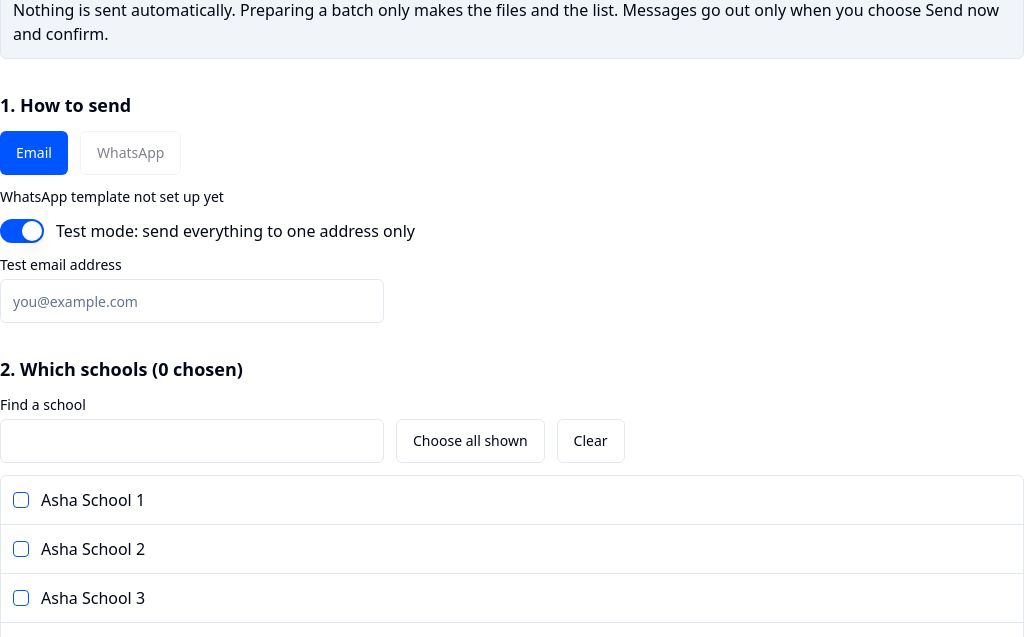
Test case: Release & Send › disables Stage above 50 schools and says why
The width and height of the screenshot is (1024, 637).
Earlier steps of the test are not shown.
Type "me@example.com" into the field labelled "Test email address".
click(192, 301); type("me@example.com")  # box [0, 279, 384, 323]
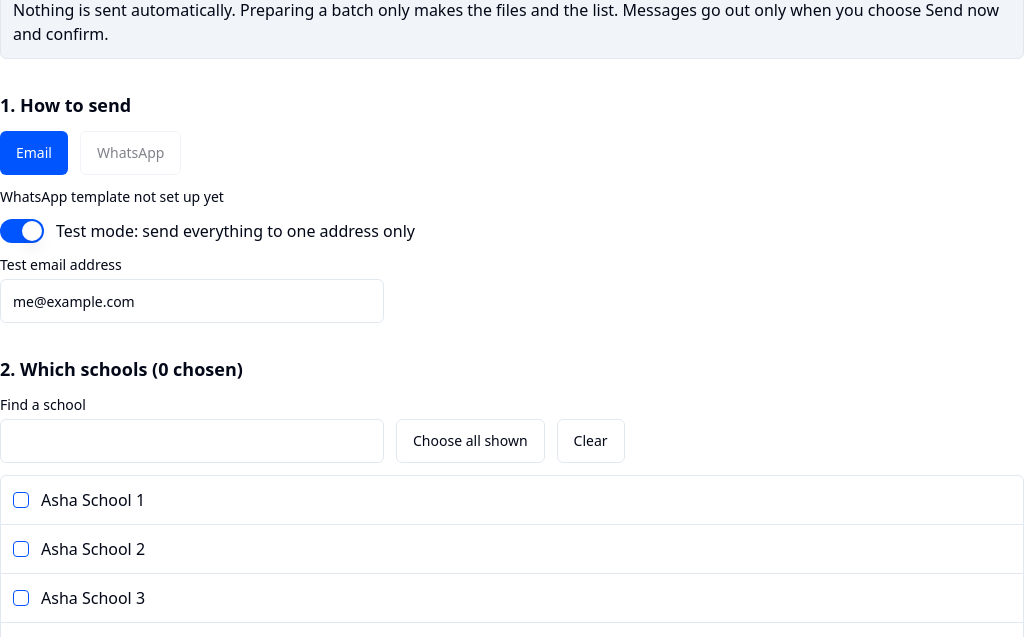
Click the button "Choose all shown".
click(470, 441)  # box [396, 419, 545, 463]
(page scrolled)
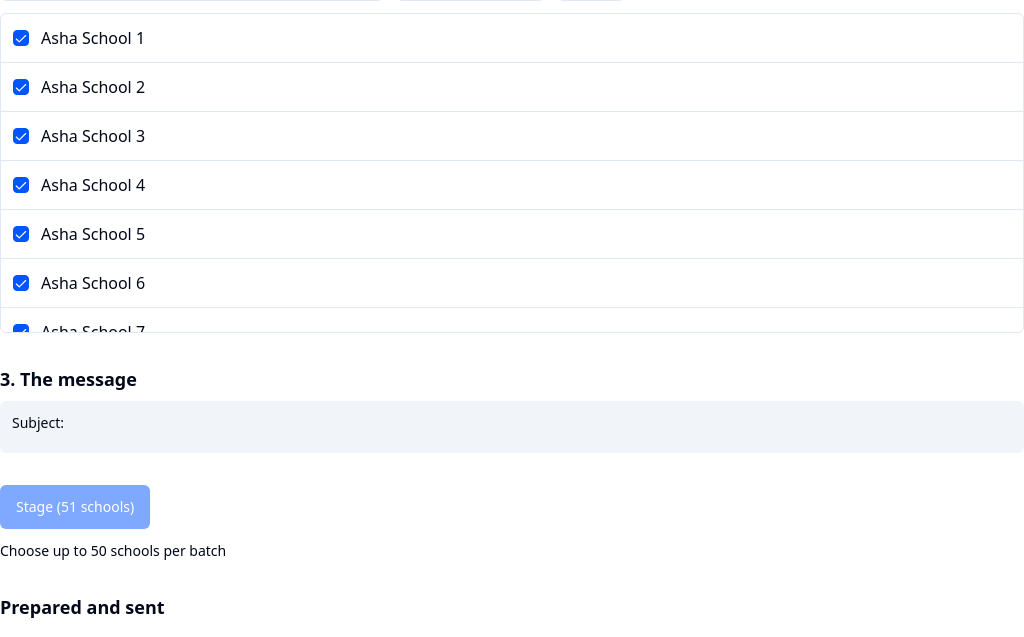
Result: the button "Stage (51 schools)" is disabled at [0, 485, 150, 529]
Result: the text "Choose up to 50 schools per batch" is shown at [0, 541, 226, 560]
